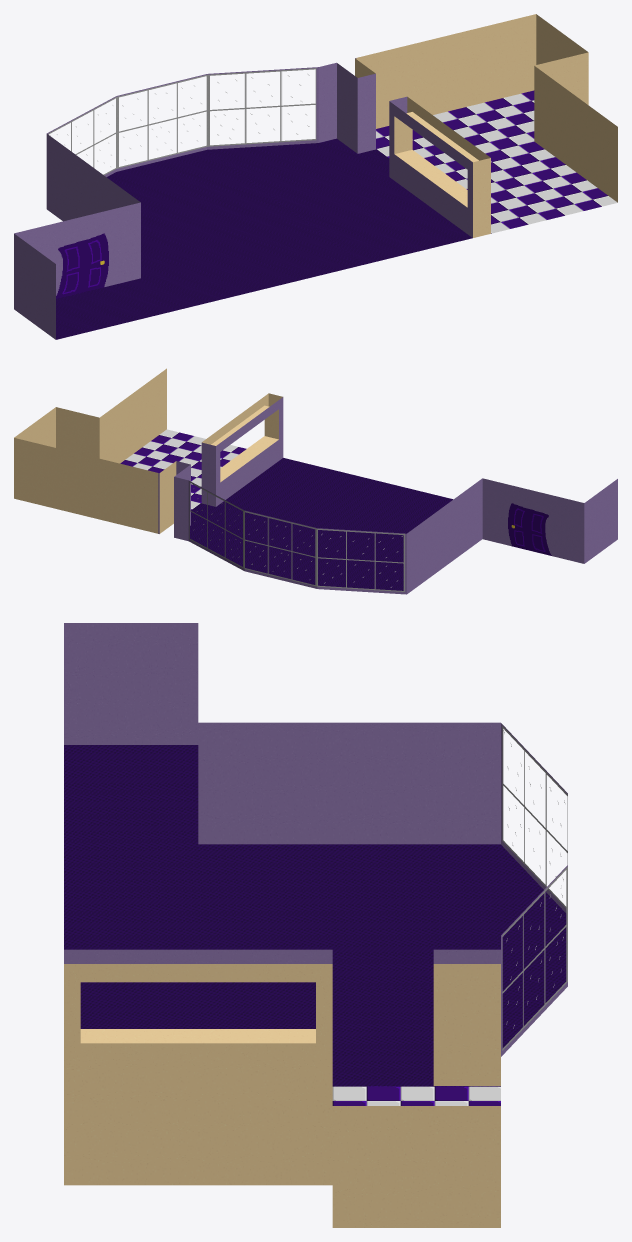
Rendered from Apartment.glb.
3 renders of one model, top to bottom at view 1: azimuth 30°, elevation 25°; view 2: azimuth 150°, elevation 25°; view 3: azimuth 270°, elevation 25°, orthographic. The views are drawn at different scales.
Parts seen in each view (by area): view 1: Geometry-col; view 2: Geometry-col; view 3: Geometry-col.
Part boxes in pixels (x1=…): Geometry-col: x1=14, y1=14, x2=617, y2=339; Geometry-col: x1=14, y1=368, x2=617, y2=594; Geometry-col: x1=64, y1=623, x2=567, y2=1227.
Bounding box in the file's own units: 34 × 4 × 15.
Materials: 1 (1 with a texture image).
